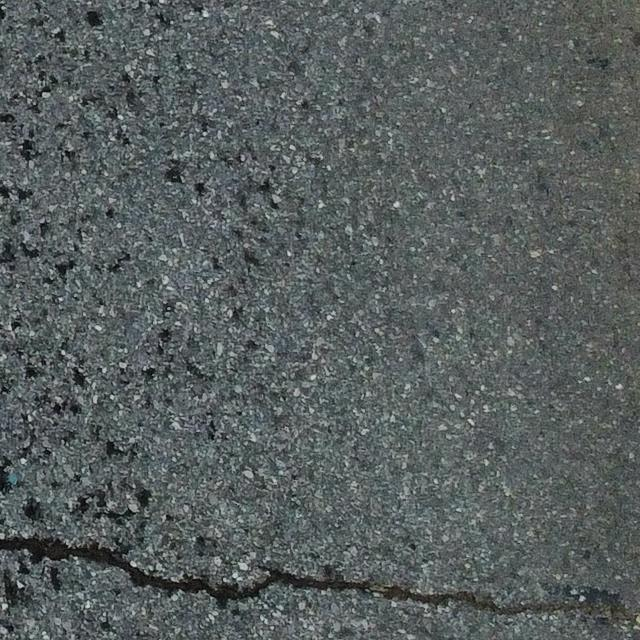TransverseCrack: (1, 533, 640, 622)
